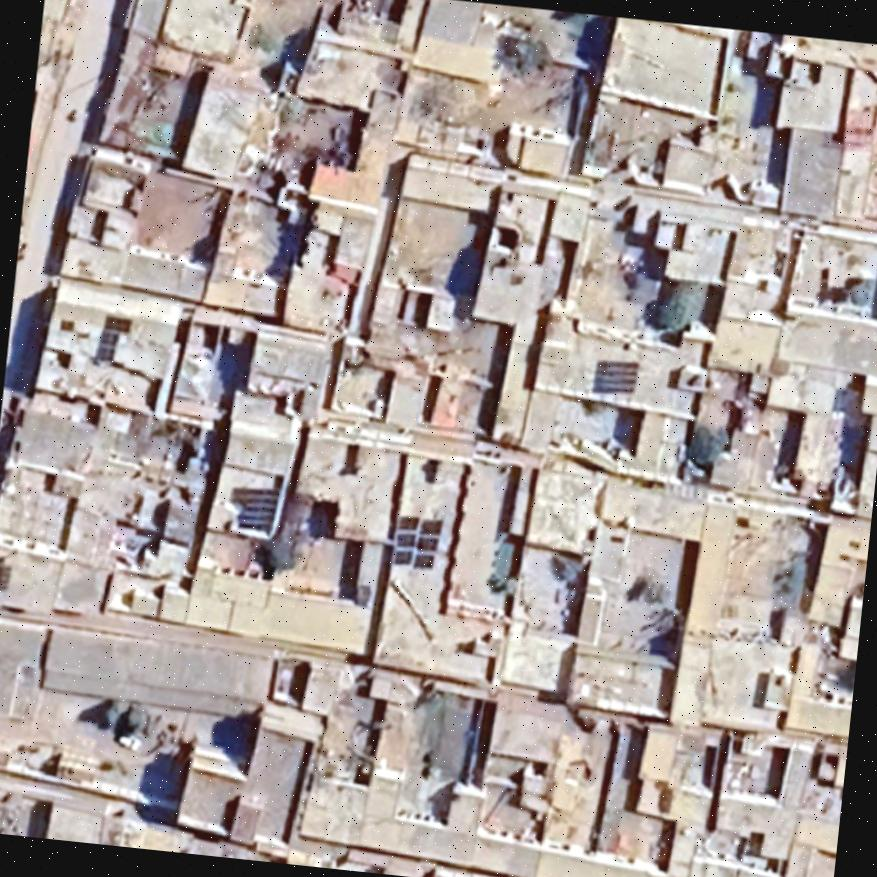Solarpanel: (385, 508, 447, 576), (224, 479, 283, 539), (584, 352, 643, 402), (87, 310, 134, 368)
